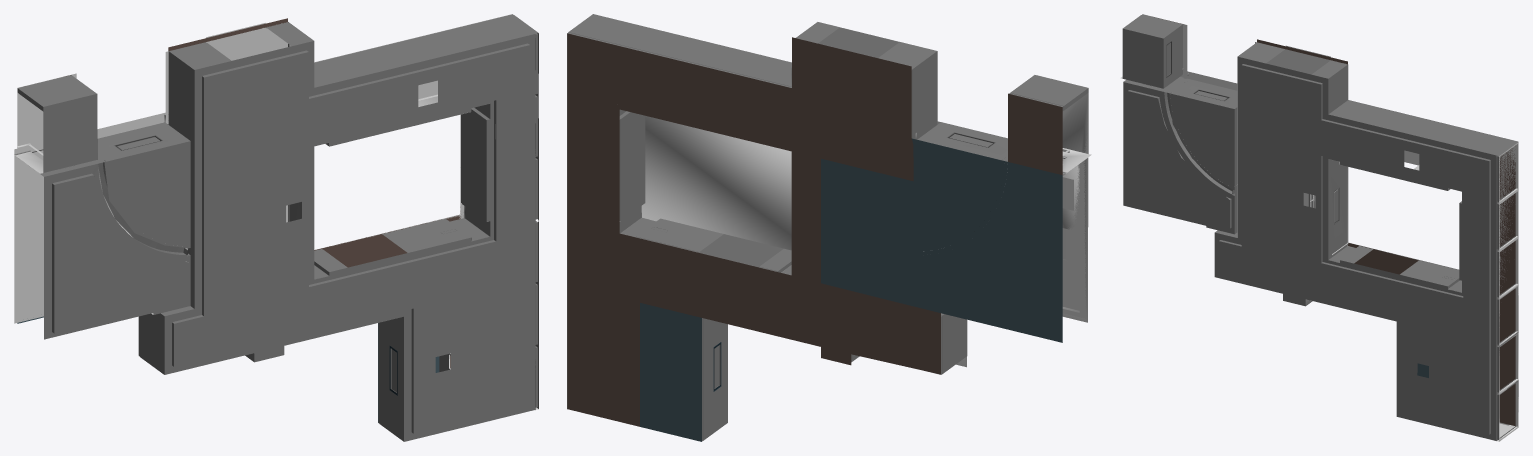
Rendered from branchbank.glb.
The picture shows the model from 3 angles, left to right: view 1: azimuth 30°, elevation 25°; view 2: azimuth 150°, elevation 25°; view 3: azimuth 330°, elevation 25°; orthographic projection. The views are drawn at different scales.
Parts seen in each view (by area): view 1: g_ceiling, g_walls, dm_carpet, g_floor, c_mesh_floor, g_counter, c_mesh; view 2: g_floor, g_walls, c_mesh_ceiling, dm_plaster, dm_plastic, dm_glass_breakable; view 3: g_ceiling, g_walls, g_floor, dm_carpet, dm_wood, c_mesh_floor, g_counter, c_mesh.
Boxes of the visible parts, x1=… form: g_ceiling: x1=43, y1=34, x2=535, y2=441; g_walls: x1=14, y1=14, x2=538, y2=441; dm_carpet: x1=17, y1=27, x2=460, y2=320; g_floor: x1=17, y1=18, x2=460, y2=422; c_mesh_floor: x1=14, y1=14, x2=512, y2=323; g_counter: x1=98, y1=160, x2=188, y2=255; c_mesh: x1=15, y1=45, x2=450, y2=369; g_floor: x1=567, y1=33, x2=1062, y2=441; g_walls: x1=567, y1=14, x2=1088, y2=441; c_mesh_ceiling: x1=641, y1=93, x2=1088, y2=367; dm_plaster: x1=641, y1=27, x2=1088, y2=318; dm_plastic: x1=699, y1=33, x2=1063, y2=441; dm_glass_breakable: x1=1062, y1=177, x2=1073, y2=261; g_ceiling: x1=1122, y1=28, x2=1496, y2=440; g_walls: x1=1123, y1=14, x2=1518, y2=440; g_floor: x1=1159, y1=18, x2=1515, y2=426; dm_carpet: x1=1180, y1=24, x2=1515, y2=207; dm_wood: x1=1313, y1=60, x2=1518, y2=441; c_mesh_floor: x1=1143, y1=14, x2=1517, y2=287; g_counter: x1=1164, y1=78, x2=1234, y2=194; c_mesh: x1=1120, y1=74, x2=1518, y2=409.
Size of the model in its own units: 3331 by 2731 by 326.
